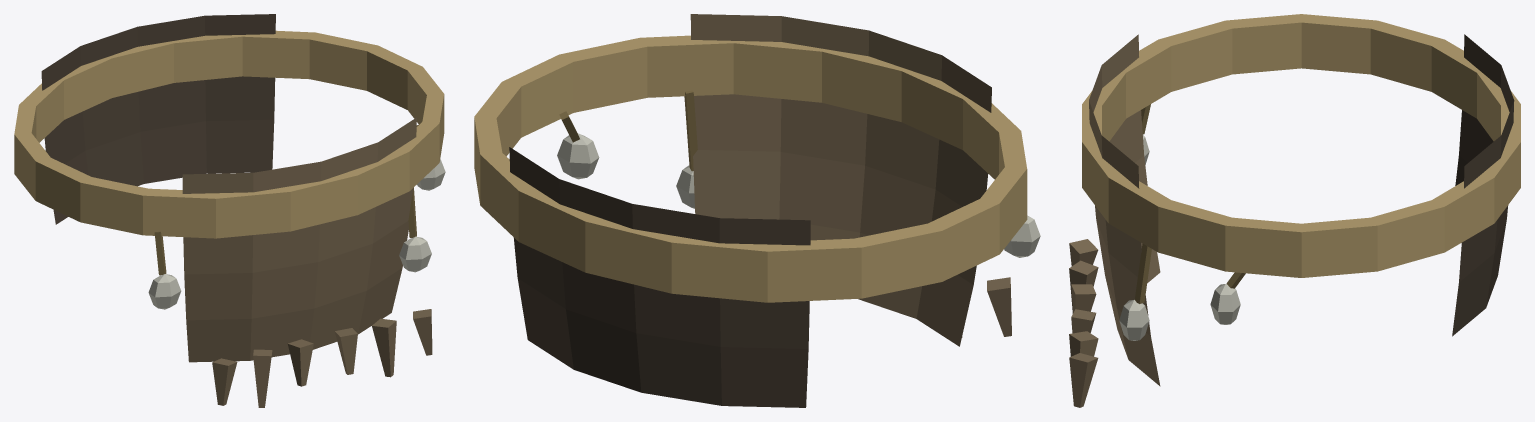
File: stone_giant_kilt.glb
The picture shows the model from 3 angles, left to right: view 1: azimuth 30°, elevation 25°; view 2: azimuth 150°, elevation 25°; view 3: azimuth 270°, elevation 25°; orthographic projection. The views are drawn at different scales.
Parts seen in each view (by area): view 1: stone_giant_kilt; view 2: stone_giant_kilt; view 3: stone_giant_kilt.
Boxes of the visible parts, x1=… form: stone_giant_kilt: x1=14, y1=14, x2=445, y2=407; stone_giant_kilt: x1=474, y1=14, x2=1040, y2=407; stone_giant_kilt: x1=1069, y1=14, x2=1520, y2=407.
Bounding box in the file's own units: 1.02 × 0.5708 × 0.8925.
